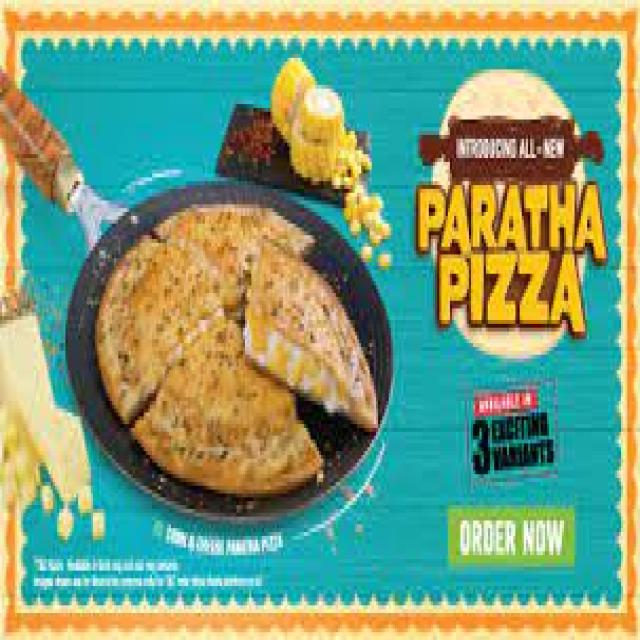Pizza: (114, 215, 364, 501)
